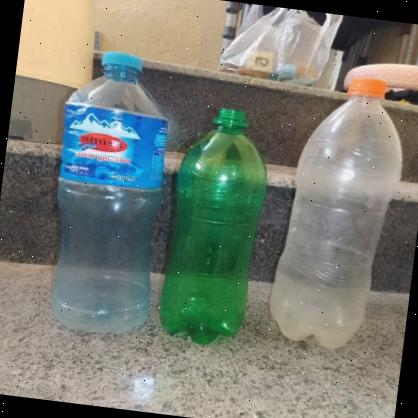bottle: (14, 37, 180, 343), (258, 61, 418, 358), (152, 89, 284, 349)
cap: (343, 72, 390, 102), (95, 48, 148, 74)
label: (51, 102, 171, 196)
